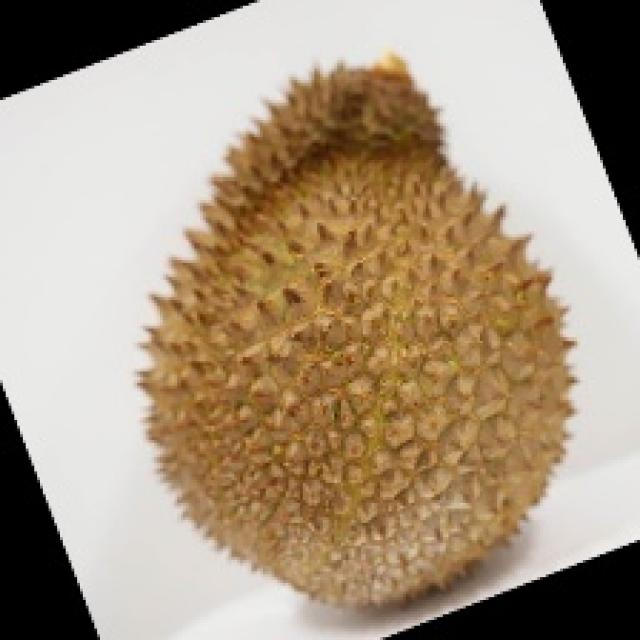d175: (136, 56, 592, 607)
